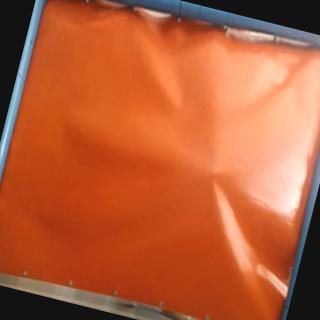Hit-hRxx: (203, 166, 226, 187)
